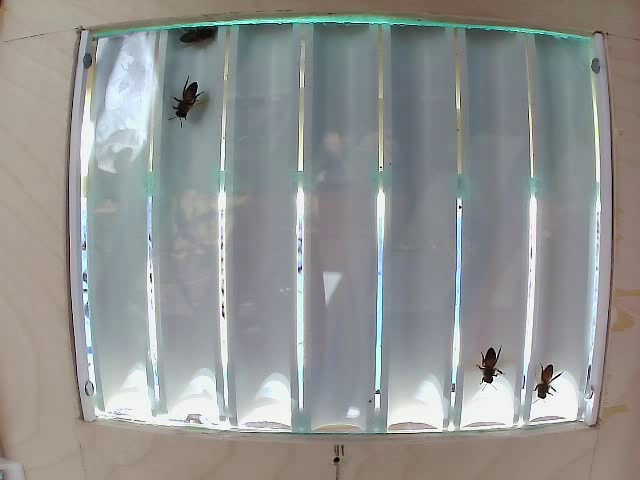bee: (179, 28, 229, 75), (169, 75, 210, 127), (472, 340, 511, 388), (535, 359, 561, 404)
